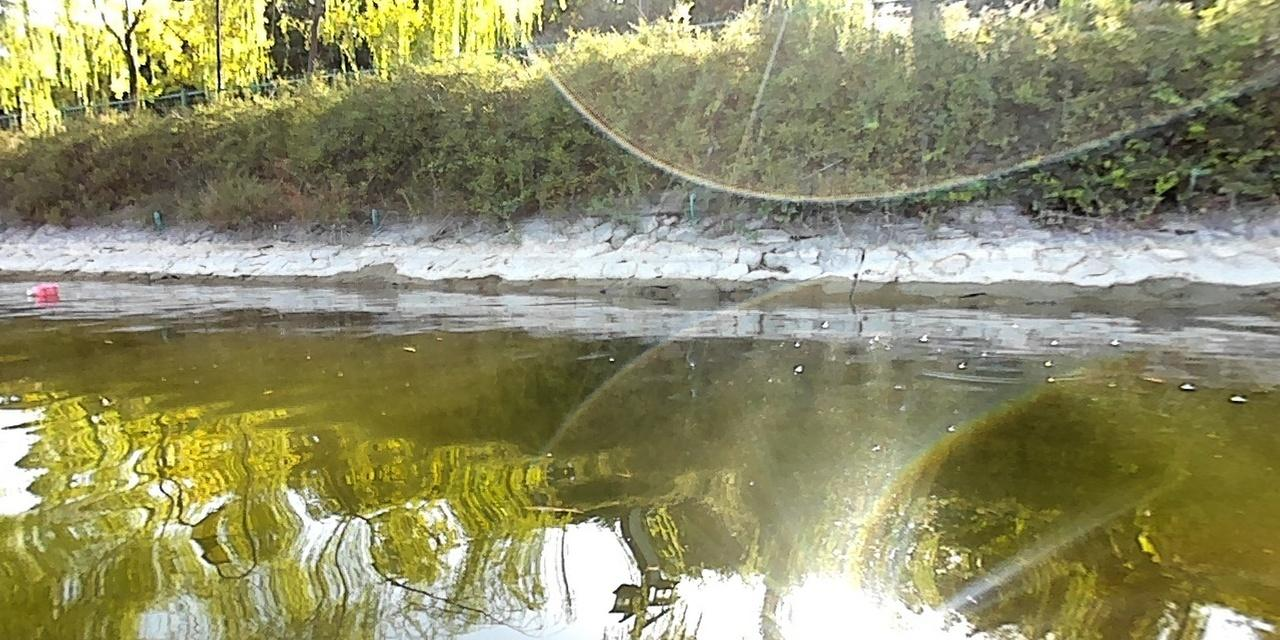bottle: (21, 279, 63, 299)
